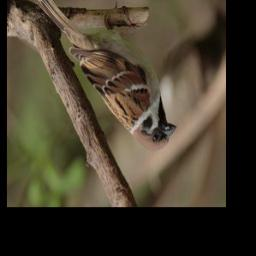Sparrow: (33, 0, 178, 155)
